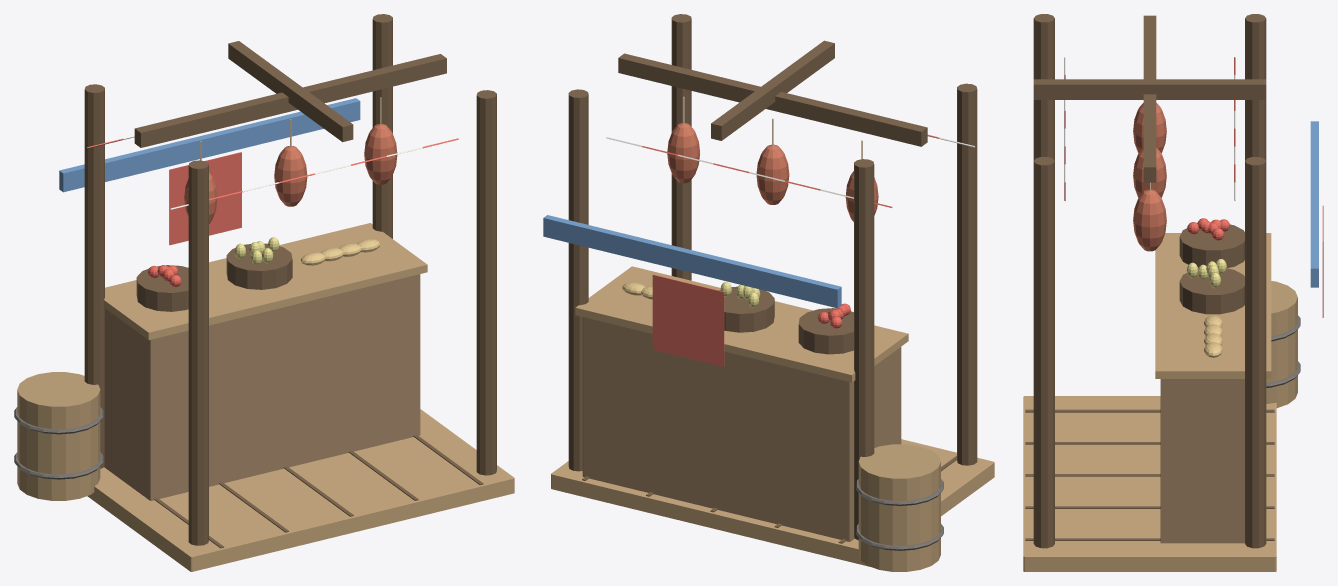
The model's file is market_v2.glb.
3 renders of one model, left to right at view 1: azimuth 30°, elevation 25°; view 2: azimuth 150°, elevation 25°; view 3: azimuth 270°, elevation 25°, orthographic. The views are drawn at different scales.
Visible parts, largest first — view 1: market_v2; view 2: market_v2; view 3: market_v2.
Part boxes in pixels (<box>): market_v2: <box>14,14,514,571</box>; market_v2: <box>543,14,994,571</box>; market_v2: <box>1023,14,1323,571</box>.
Size of the model in its own units: 2.12 by 2.14 by 1.42.
